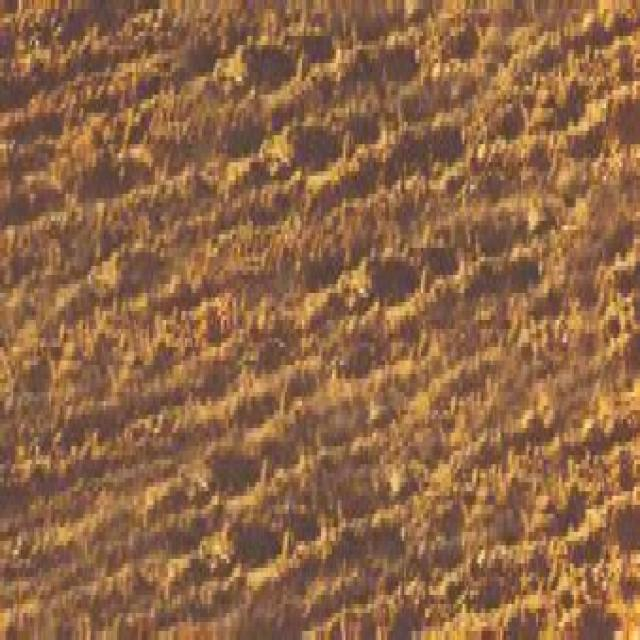Alluvial Soil: (54, 70, 546, 476)
